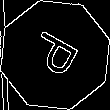P_SE: (24, 26, 86, 84)
